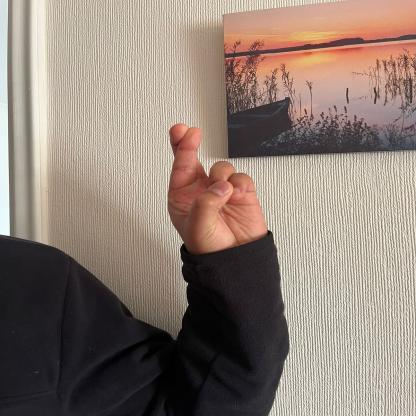R: (162, 120, 271, 261)
